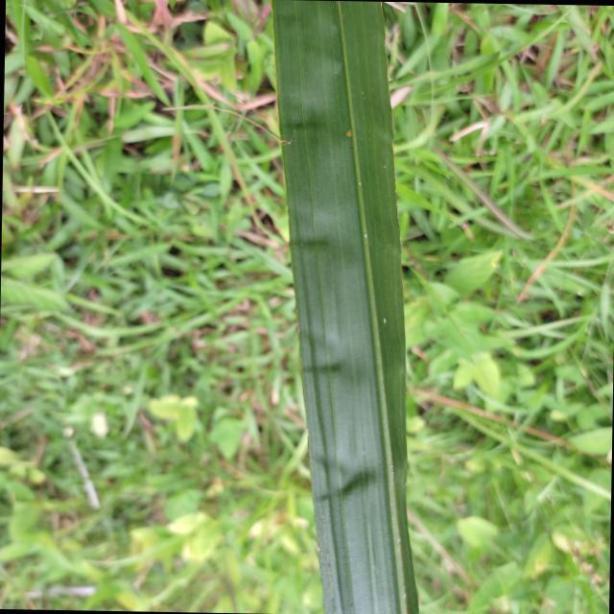Boron: (274, 0, 418, 614)
